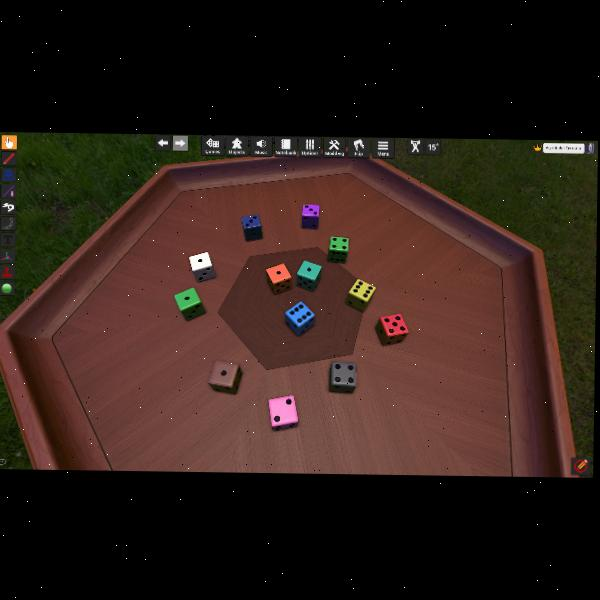d6: (267, 394, 299, 431), (284, 300, 315, 337), (208, 360, 241, 393), (174, 287, 205, 321), (375, 314, 405, 346), (346, 278, 375, 311), (328, 360, 357, 392), (265, 262, 293, 294), (296, 259, 322, 292), (188, 251, 214, 283), (327, 237, 348, 265), (242, 213, 263, 241), (301, 204, 321, 230)
